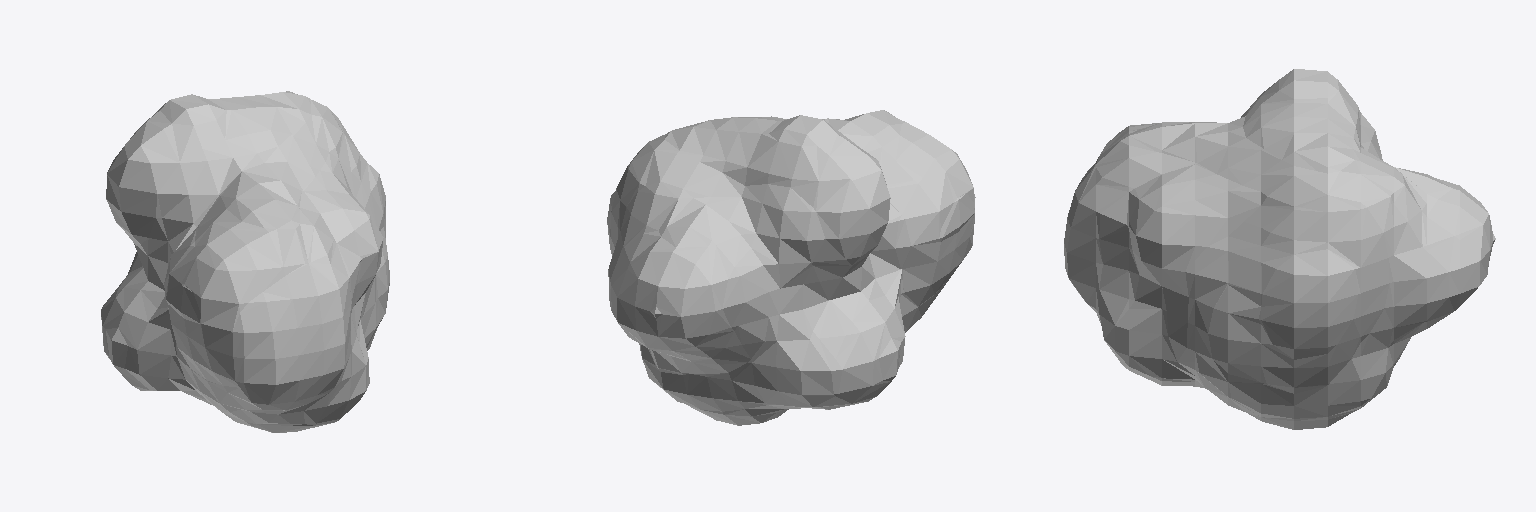
The model's file is 1k30_cms.obj.
3 views of the same model, side by side, from view 1: azimuth 30°, elevation 25°; view 2: azimuth 150°, elevation 25°; view 3: azimuth 270°, elevation 25° (orthographic).
Size of the model in its own units: 58.45 by 63.8 by 79.66.